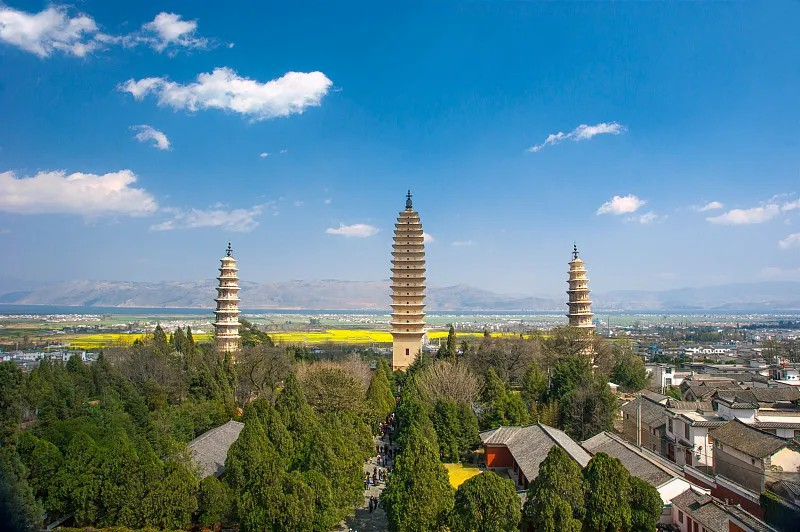ThreePagoda: (389, 189, 426, 370)
